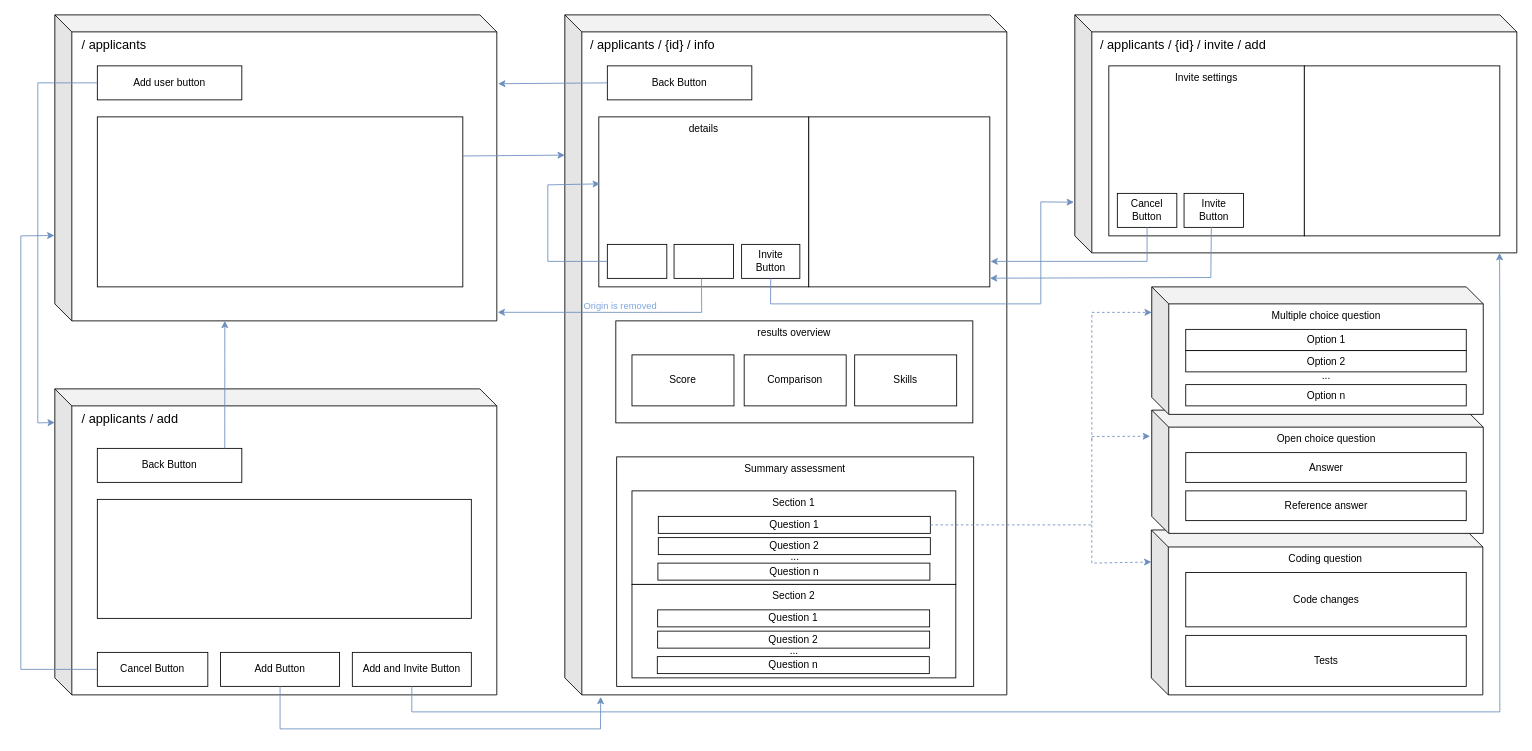
Some shapes in this 1532 by 751 pixel diagram are drawn without their labels. Here are the shapes that lost their labels. From the top down, the centre of each, then its label:
At [1401,150]: "invite mail".
At [279,201]: "Table".
At [899,201]: "invites overview".
At [636,261]: "Edit Button".
At [703,261]: "Delete Button".
At [283,558]: "name / email / lagnuage".
